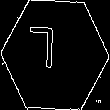L_S: (41, 29, 69, 81)
